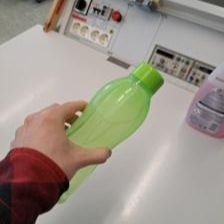bottle: (52, 58, 169, 206)
